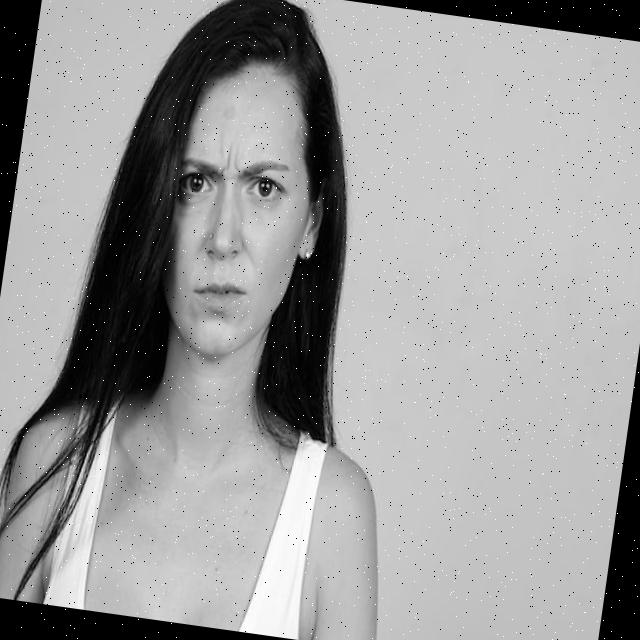Angry: (146, 66, 326, 366)
